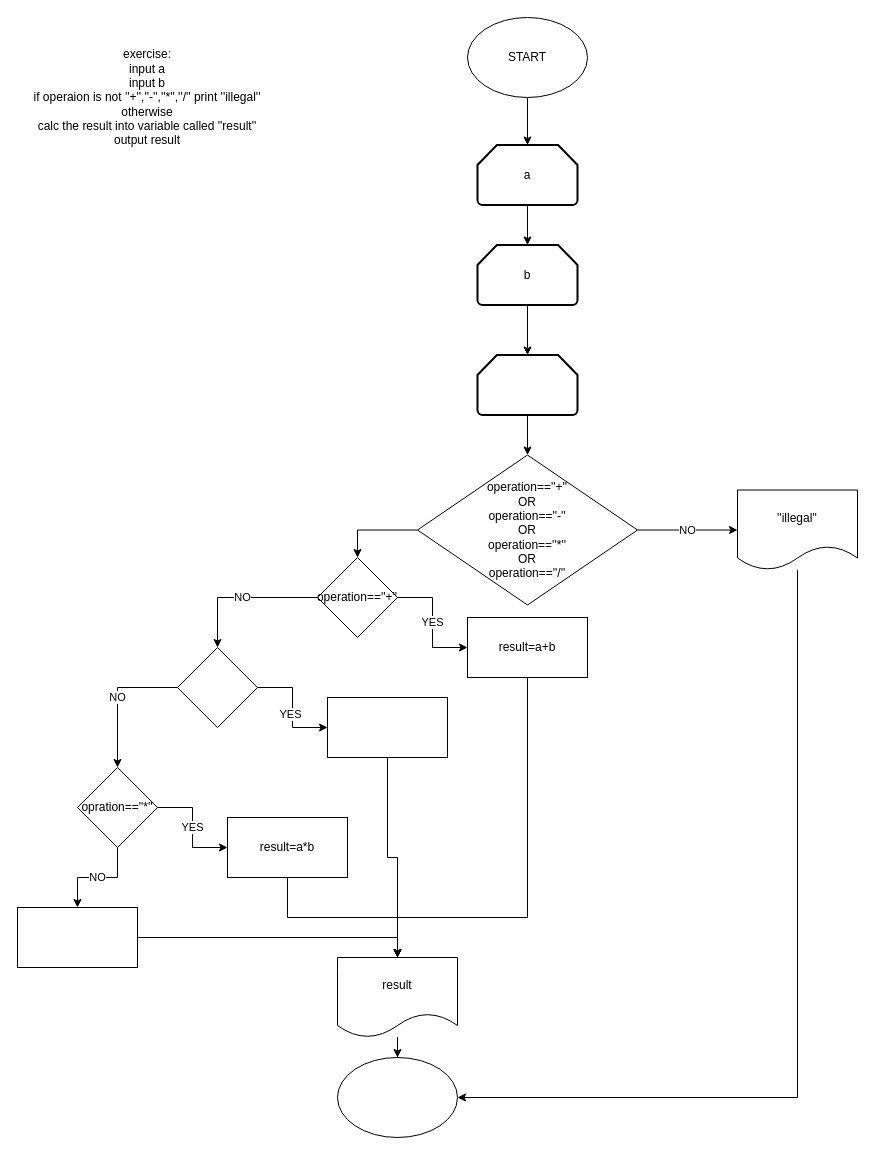
Some shapes in this 875 by 1155 pixel diagram are drawn without their labels. The shapes that lost their labels are listed below. From the top down, each one's centre as x and y in pixels, then its label:
the point at 527,385: operation
the point at 217,687: operation==''-''
the point at 387,727: result=a-b
the point at 77,937: result=a/b
the point at 397,1097: STOP
